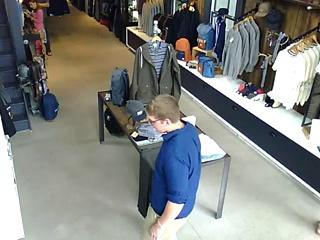Normal: (144, 95, 202, 240), (36, 0, 54, 56)
